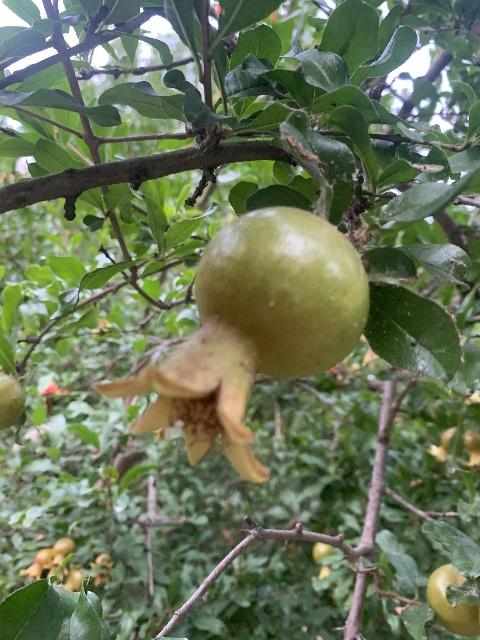early-fruit: (43, 537, 75, 580), (18, 548, 50, 581), (427, 426, 456, 461), (87, 552, 115, 587), (460, 429, 480, 466), (60, 569, 82, 591)
mid-growth: (95, 205, 370, 486), (311, 542, 335, 579)
